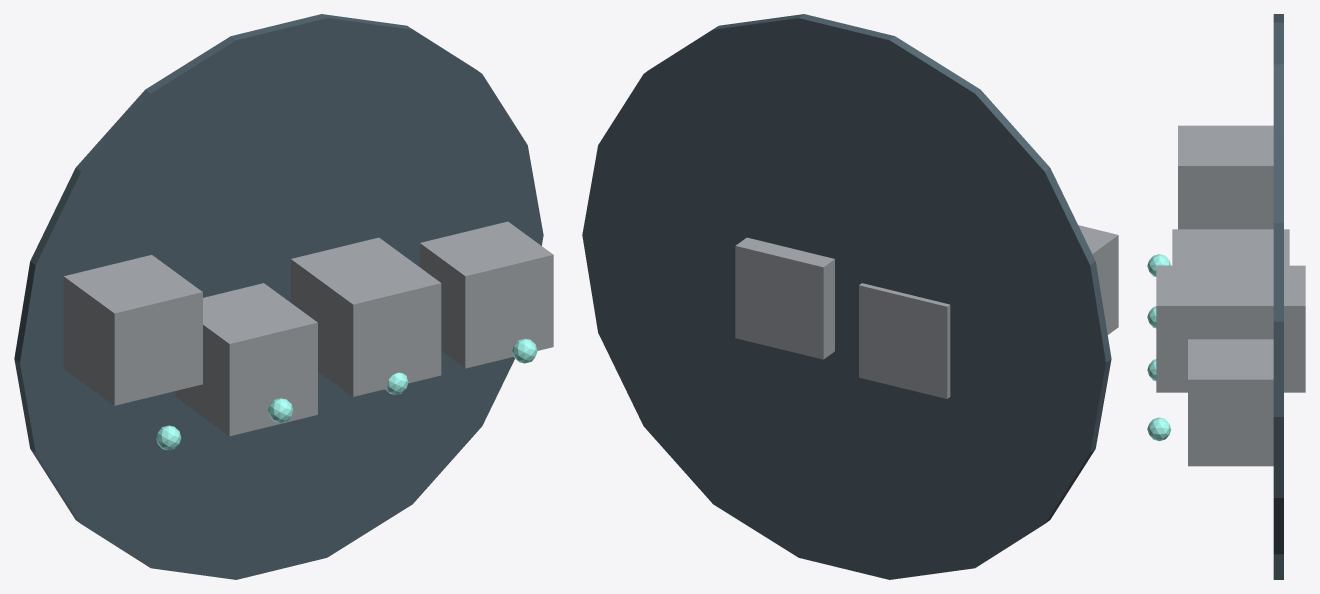
File: 02_display_prop_cluster.glb
The picture shows the model from 3 angles, left to right: view 1: azimuth 30°, elevation 25°; view 2: azimuth 150°, elevation 25°; view 3: azimuth 270°, elevation 25°; orthographic projection. The views are drawn at different scales.
Visible parts, largest first — view 1: scatter_base, tech_crate_2, tech_crate_0, tech_crate_1, tech_crate_3; view 2: scatter_base, tech_crate_2, tech_crate_1, tech_crate_0; view 3: tech_crate_2, tech_crate_3, tech_crate_0, scatter_base, tech_crate_1, status_light_3, status_light_0.
Part boxes in pixels (x1,y1,x2,y2): scatter_base: (14, 14, 543, 579); tech_crate_2: (291, 237, 441, 396); tech_crate_0: (63, 255, 202, 405); tech_crate_1: (175, 283, 317, 436); tech_crate_3: (420, 221, 553, 368); scatter_base: (582, 14, 1111, 579); tech_crate_2: (735, 237, 834, 359); tech_crate_1: (859, 283, 950, 398); tech_crate_0: (1078, 225, 1118, 334); tech_crate_2: (1156, 265, 1305, 392); tech_crate_3: (1188, 339, 1273, 466); tech_crate_0: (1178, 125, 1273, 229); scatter_base: (1273, 14, 1283, 579); tech_crate_1: (1172, 229, 1289, 265); status_light_3: (1147, 417, 1171, 440); status_light_0: (1147, 254, 1170, 276).
Size of the model in its own units: 1.9 by 1.87 by 0.5295.
